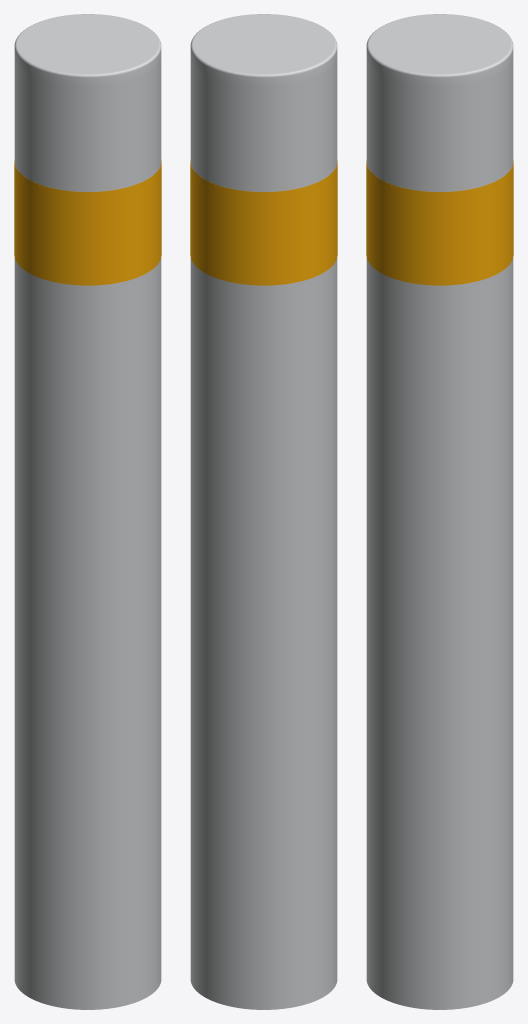
The model's file is hachiko_white_bollard.glb.
3 views of the same model, side by side, from view 1: azimuth 30°, elevation 25°; view 2: azimuth 150°, elevation 25°; view 3: azimuth 270°, elevation 25° (orthographic).
Parts seen in each view (by area): view 1: White_Shaft, Yellow_Band, White_Cap_Inferred; view 2: White_Shaft, Yellow_Band, White_Cap_Inferred; view 3: White_Shaft, Yellow_Band, White_Cap_Inferred.
Boxes of the visible parts, box(x1,y1,x2,y2) form: White_Shaft: box(14, 59, 161, 1009); Yellow_Band: box(14, 160, 161, 285); White_Cap_Inferred: box(14, 14, 161, 86); White_Shaft: box(190, 59, 337, 1009); Yellow_Band: box(190, 160, 337, 285); White_Cap_Inferred: box(190, 14, 337, 86); White_Shaft: box(366, 59, 513, 1009); Yellow_Band: box(366, 160, 513, 285); White_Cap_Inferred: box(366, 14, 513, 86).
Size of the model in its own units: 0.1142 by 0.8 by 0.1142.
